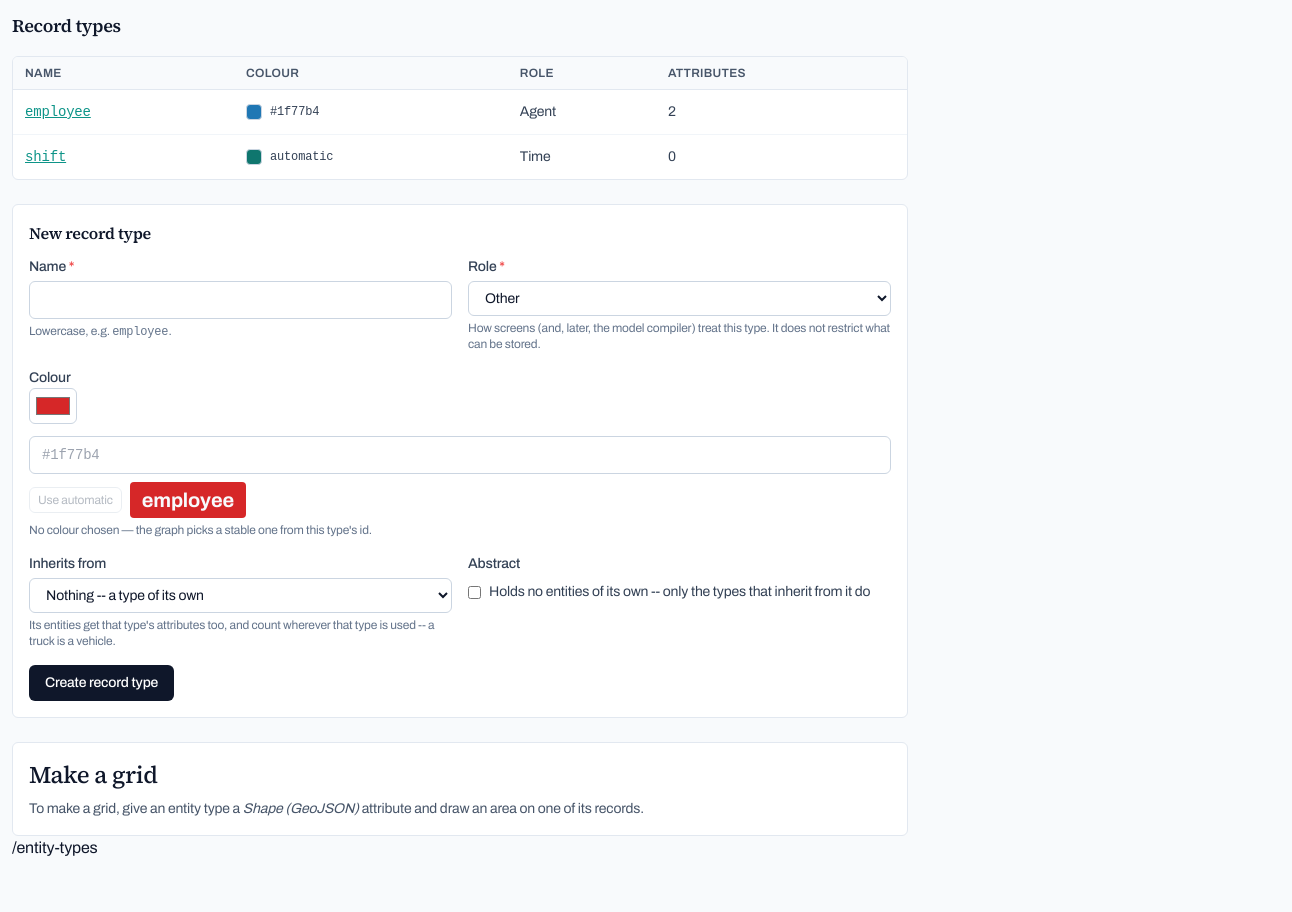
Scenario: EntityTypes list page › shows a 422 the server raises on colour under the colour box
Expected: the link "employee" is shown, [25,104,91,120]
Type "unit" into the field labelled "Name *" at coordinates (240, 300), box [29,281,452,319]
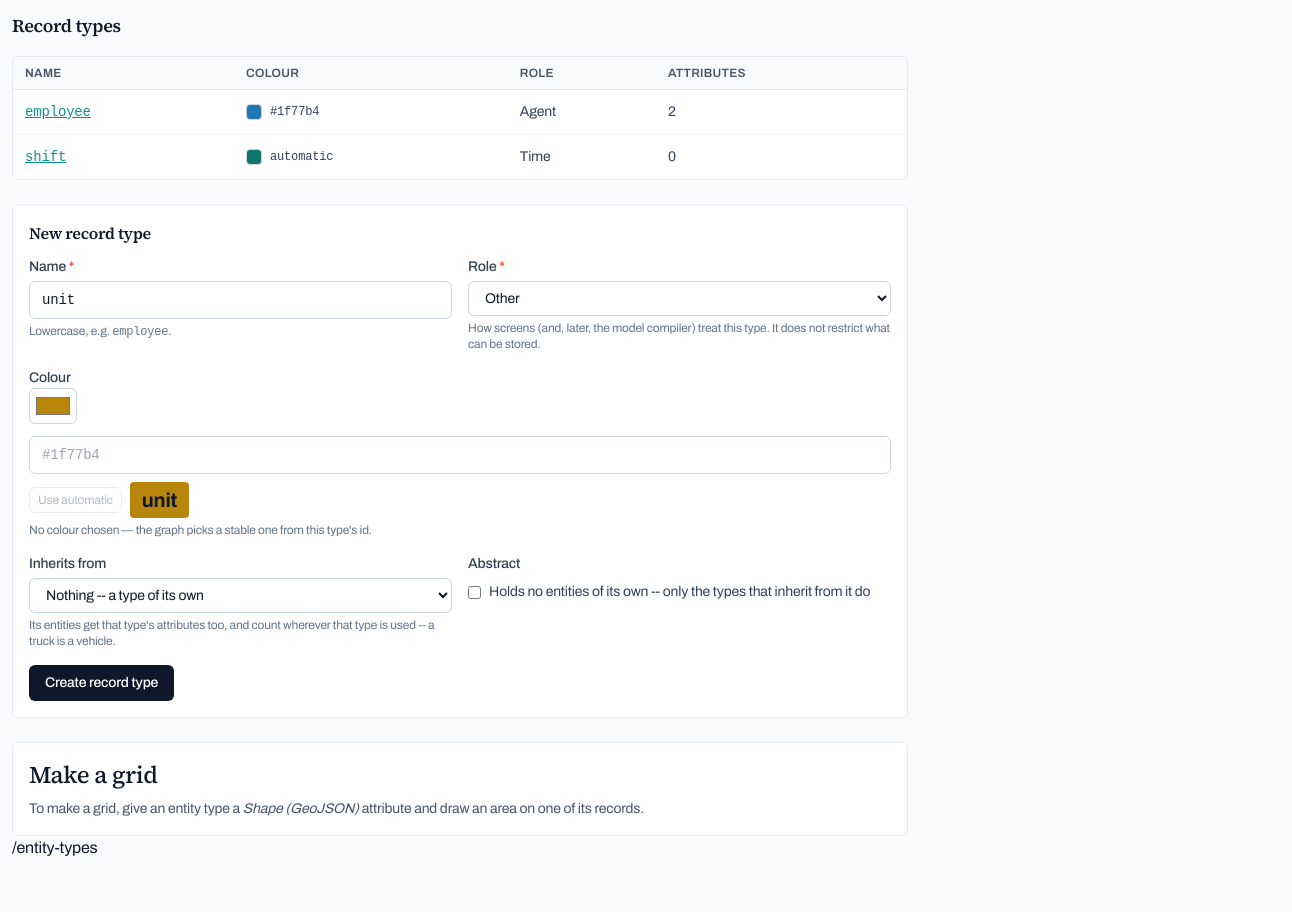
Click the button "Create record type" at coordinates (102, 683), box [29,665,174,701]
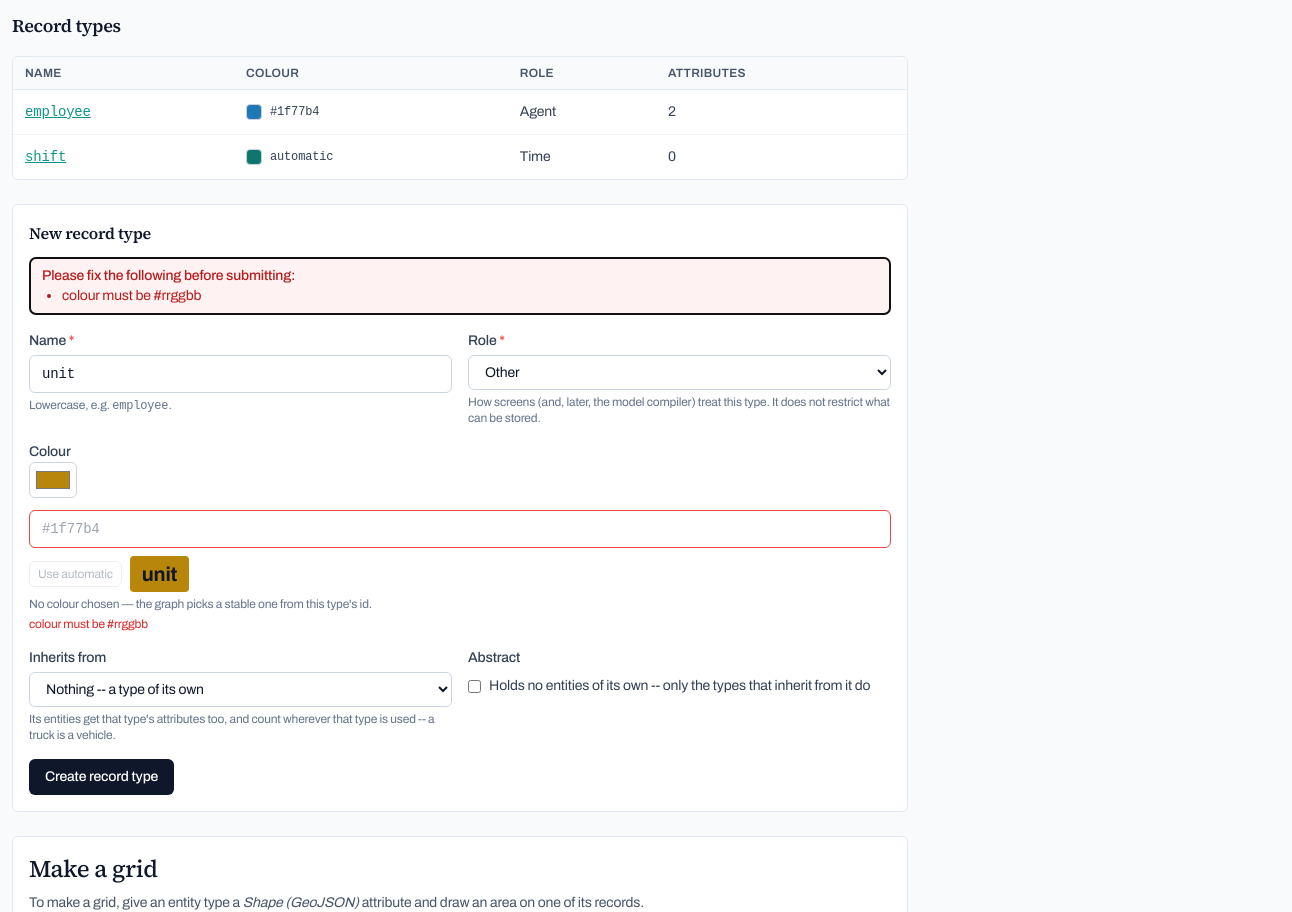
Expected: the message with test id "form-errors" shows "colour must be #rrggbb", [62,288,201,303]
Expected: the number of list items "colour must be #rrggbb" is 2, [62,288,201,303]; [29,617,148,631]
